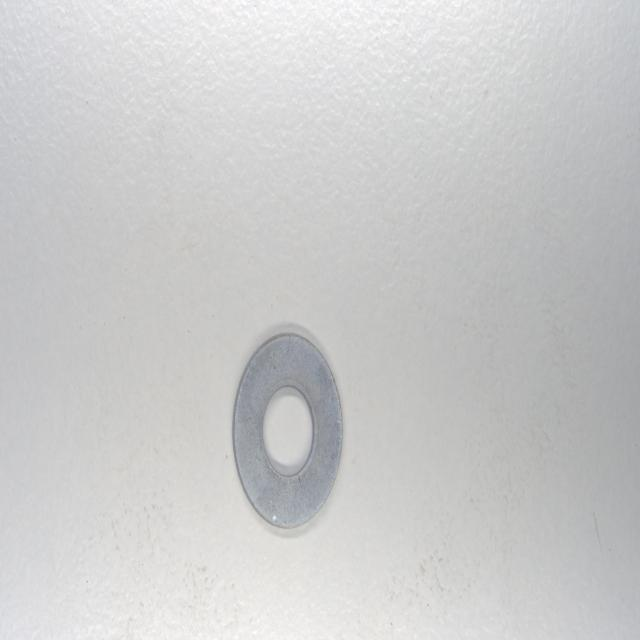washer: (230, 327, 345, 532)
